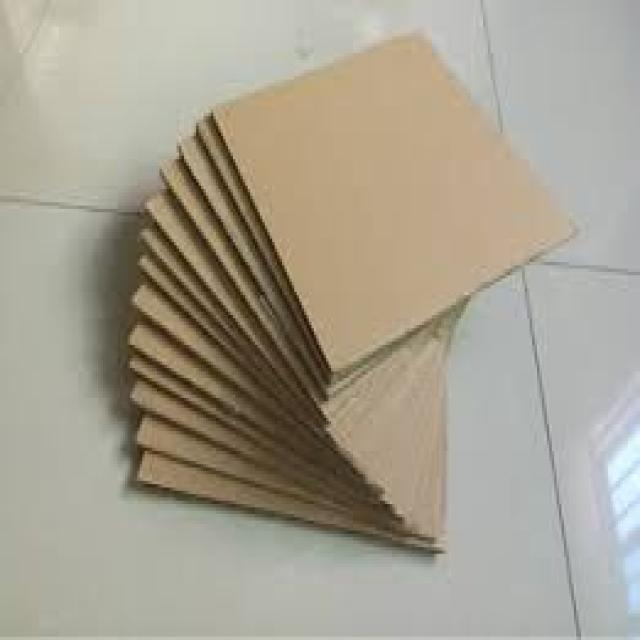Cardboard: (134, 21, 581, 545)
